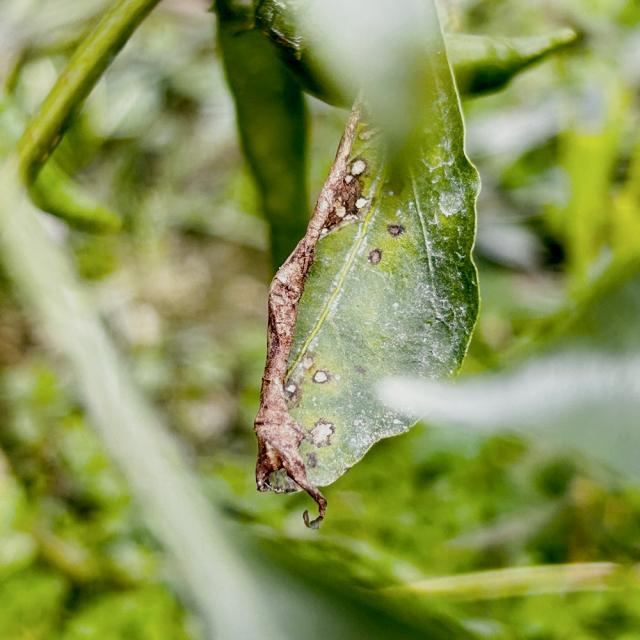Bercak Daun Serkospora: (245, 0, 484, 526)
